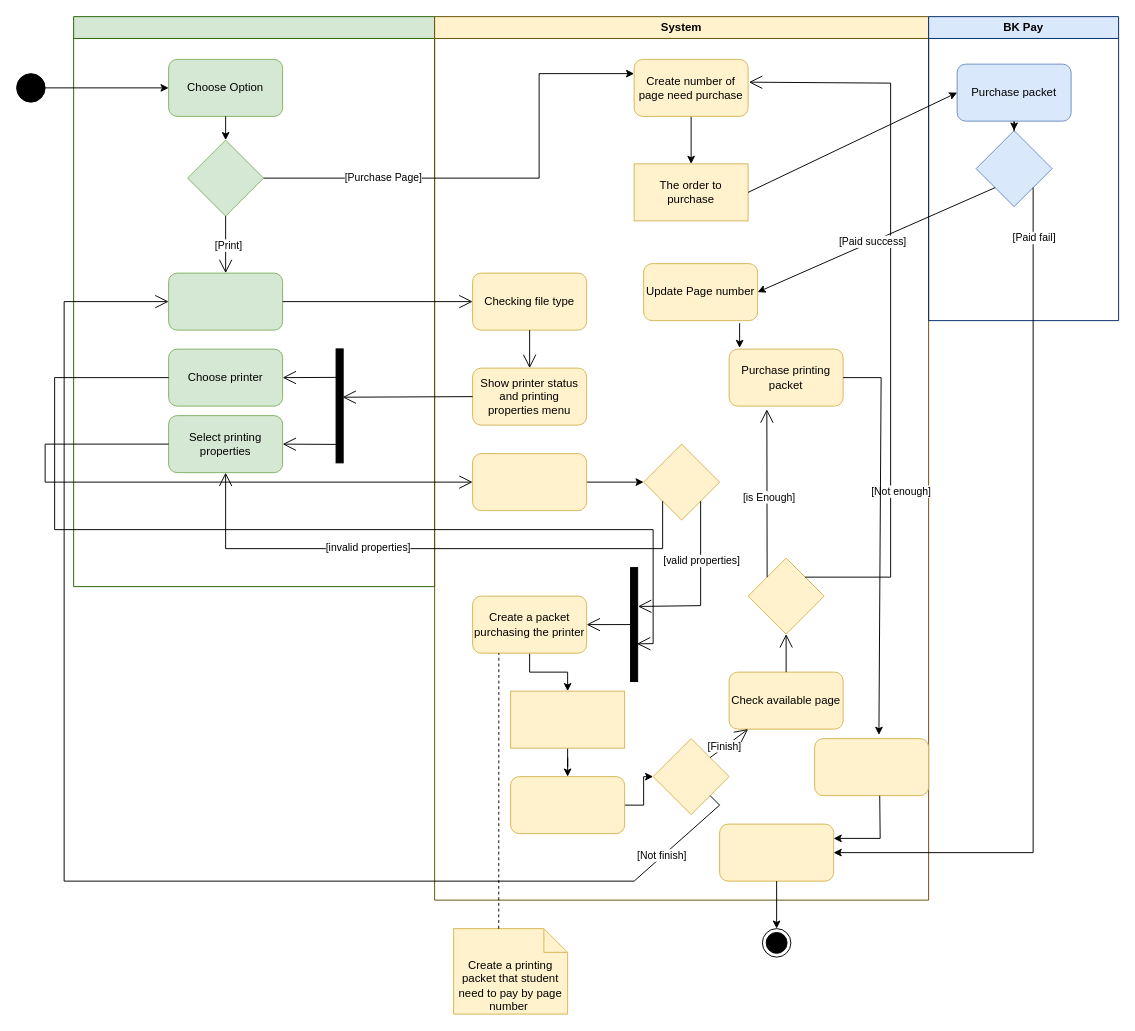
This 1135x1031 diagram has some shape labels left out. The box of each missing label's shape, as (x1, y1, x2, y2) in pixels:
Adding printing packet to printing cart: (510, 776, 625, 834)
checking printing properties: (472, 453, 587, 511)
Clear printing cart: (719, 823, 834, 881)
Printing packet: (510, 690, 625, 748)
Put printing packet s into printing log: (814, 738, 929, 796)
Student: (73, 16, 435, 587)
Upload Document: (168, 272, 283, 330)
